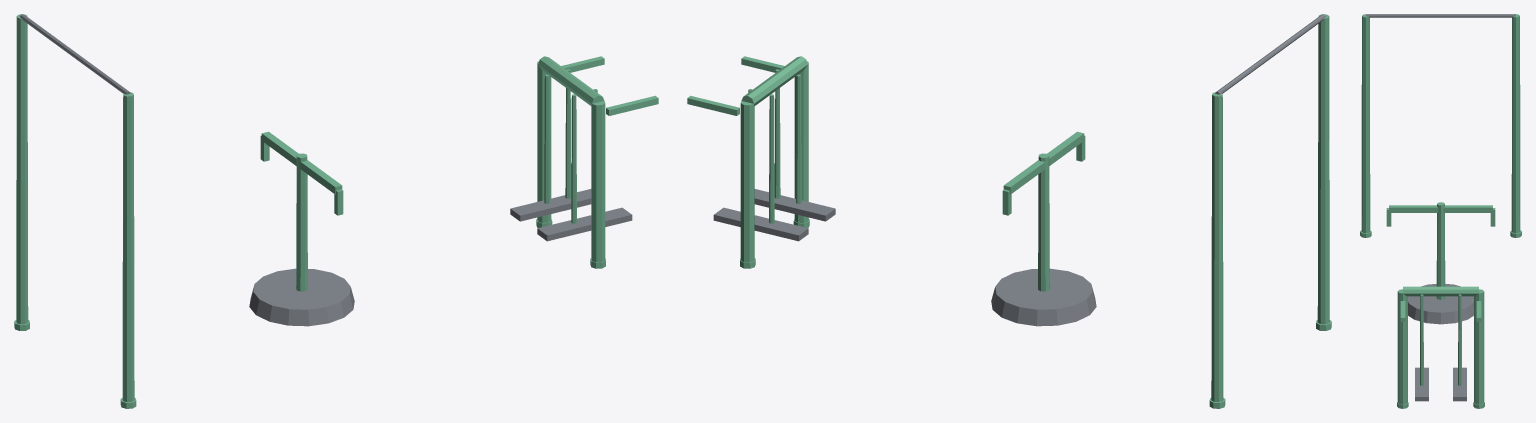
Rendered from park_fitness.glb.
3 renders of one model, left to right at view 1: azimuth 30°, elevation 25°; view 2: azimuth 150°, elevation 25°; view 3: azimuth 270°, elevation 25°, orthographic. The views are drawn at different scales.
Visible parts, largest first — view 1: Fitness_Steel, Fitness_Pad; view 2: Fitness_Steel, Fitness_Pad; view 3: Fitness_Steel, Fitness_Pad.
Part boxes in pixels (bbox=[...]): Fitness_Steel: bbox=[14, 14, 658, 408]; Fitness_Pad: bbox=[20, 14, 632, 326]; Fitness_Steel: bbox=[687, 14, 1331, 408]; Fitness_Pad: bbox=[713, 14, 1325, 326]; Fitness_Steel: bbox=[1360, 14, 1521, 408]; Fitness_Pad: bbox=[1366, 14, 1515, 401].
Bounding box in the file's own units: 0.3965 × 0.2117 × 0.14.
